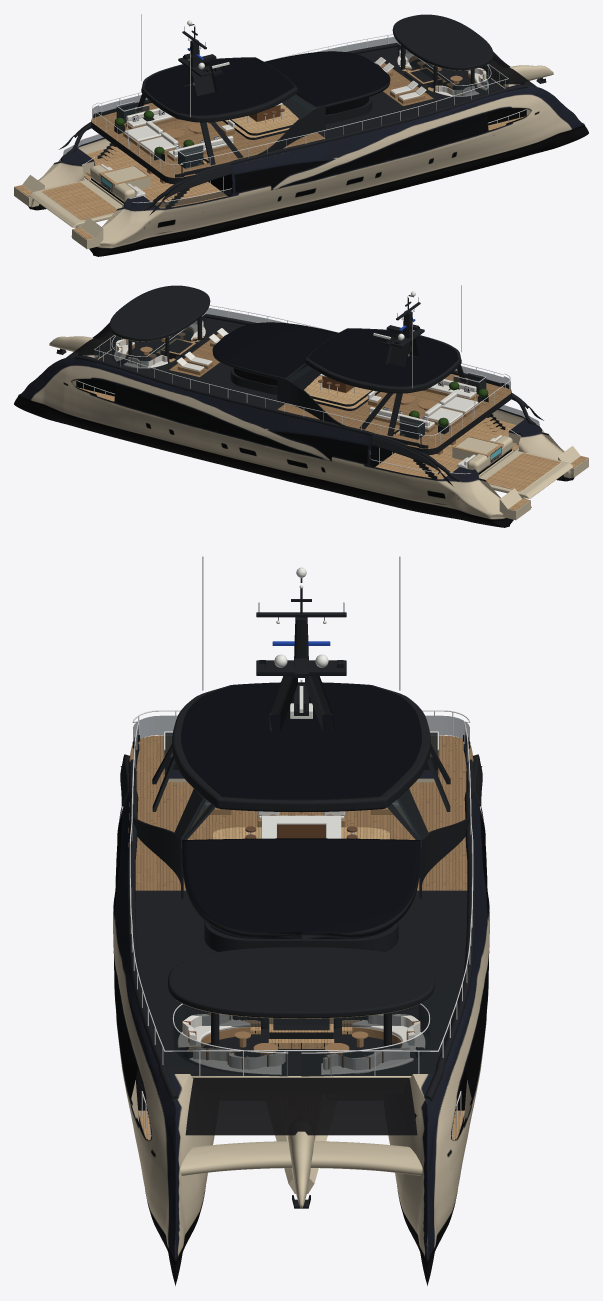
Rendered from seawolf_x_ar.glb.
3 renders of one model, top to bottom at view 1: azimuth 30°, elevation 25°; view 2: azimuth 150°, elevation 25°; view 3: azimuth 270°, elevation 25°, orthographic. The views are drawn at different scales.
Visible parts, largest first — view 1: Hull, Bridge Deck, Hardtop Solar, Wheelhouse Roof, Oval Canopy, Aft Deck, Cap Rail -1.001, Stern Platform Deck, Hardtop, SD Bulwark -1, Stern Platform, Oval Glass (+23 smaller); view 2: Hull, Bridge Deck, Hardtop Solar, Wheelhouse Roof, Oval Canopy, Aft Deck, Cap Rail 1.001, Stern Platform Deck, Hardtop, SD Bulwark 1, Stern Platform, BD Glass (+22 smaller); view 3: Bridge Deck, Hull, Hardtop Solar, Wheelhouse Roof, Oval Canopy, Bow Net, Oval Glass, Bow Beam, Hardtop, Cap Rail 1.001, Cap Rail -1.001, Wheelhouse Base (+10 smaller).
Part boxes in pixels (bbox=[...]): Hull: bbox=[28, 51, 588, 256]; Bridge Deck: bbox=[91, 47, 504, 184]; Hardtop Solar: bbox=[144, 57, 294, 115]; Wheelhouse Roof: bbox=[264, 51, 390, 108]; Oval Canopy: bbox=[392, 14, 493, 70]; Aft Deck: bbox=[86, 147, 227, 208]; Cap Rail -1.001: bbox=[143, 84, 527, 210]; Stern Platform Deck: bbox=[42, 182, 116, 220]; Hardtop: bbox=[141, 57, 297, 122]; SD Bulwark -1: bbox=[175, 105, 325, 177]; Stern Platform: bbox=[29, 179, 122, 227]; Oval Glass: bbox=[397, 43, 490, 97]; Hull: bbox=[14, 322, 574, 527]; Bridge Deck: bbox=[98, 318, 511, 455]; Hardtop Solar: bbox=[308, 328, 458, 386]; Wheelhouse Roof: bbox=[212, 322, 338, 379]; Oval Canopy: bbox=[109, 285, 210, 341]; Aft Deck: bbox=[375, 418, 516, 479]; Cap Rail 1.001: bbox=[75, 355, 459, 481]; Stern Platform Deck: bbox=[486, 453, 560, 491]; Hardtop: bbox=[305, 328, 461, 393]; SD Bulwark 1: bbox=[277, 376, 428, 448]; Stern Platform: bbox=[480, 450, 573, 498]; BD Glass: bbox=[94, 308, 510, 444]; Bridge Deck: bbox=[128, 735, 473, 1075]; Hull: bbox=[113, 770, 489, 1285]; Hardtop Solar: bbox=[181, 682, 421, 800]; Wheelhouse Roof: bbox=[182, 838, 420, 939]; Oval Canopy: bbox=[168, 947, 434, 1018]; Bow Net: bbox=[185, 1078, 417, 1135]; Oval Glass: bbox=[173, 1004, 429, 1076]; Bow Beam: bbox=[180, 1141, 422, 1175]; Hardtop: bbox=[172, 683, 430, 812]; Cap Rail 1.001: bbox=[424, 756, 475, 1101]; Cap Rail -1.001: bbox=[127, 756, 178, 1101]; Wheelhouse Base: bbox=[204, 921, 398, 951].
Bounding box in the file's own units: 1.43 × 0.502 × 0.459.
Materials: 29 (6 with a texture image).
